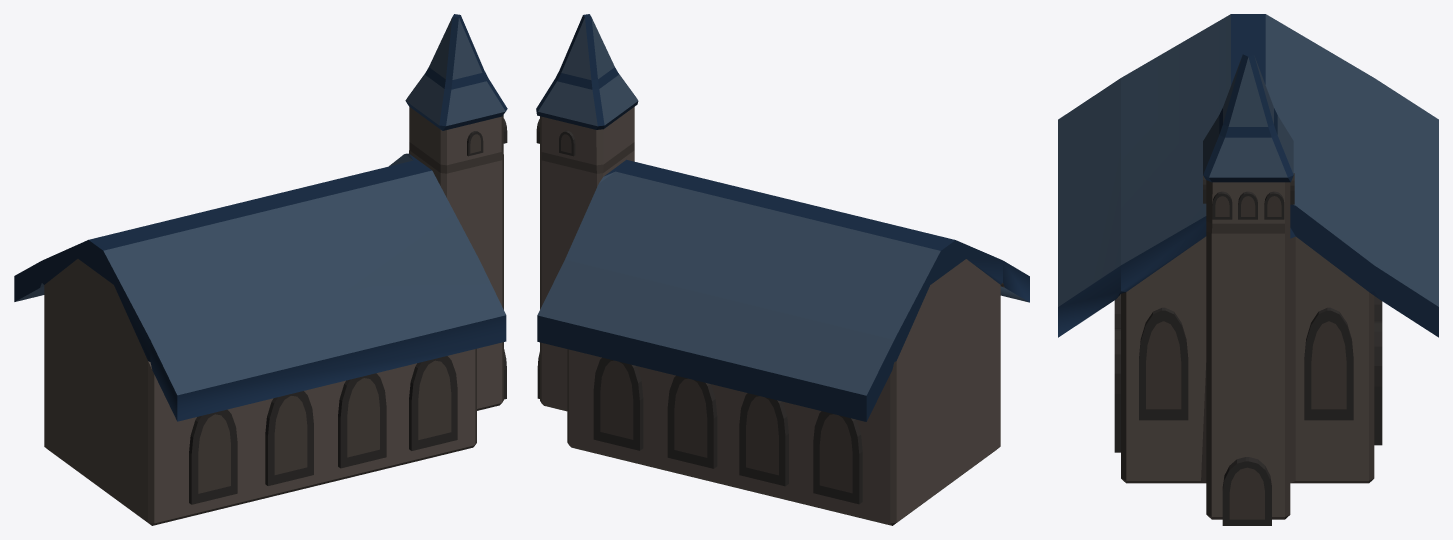
File: CHURCH 1.fbx
3 renders of one model, left to right at view 1: azimuth 30°, elevation 25°; view 2: azimuth 150°, elevation 25°; view 3: azimuth 270°, elevation 25°, orthographic. The views are drawn at different scales.
Visible parts, largest first — view 1: Cube, Cylinder.009, Cylinder.008, Cylinder.011, Cylinder.010; view 2: Cube, Cylinder.004, Cylinder.005, Cylinder.006, Cylinder.007; view 3: Cube, Cylinder.003, Cylinder.001, Cylinder.002, Cylinder.004, Cylinder.008, Cylinder.014, Cylinder.012, Cylinder.013.
Part boxes in pixels (x1,y1,x2,y2): Cube: (14, 14, 507, 525); Cylinder.009: (338, 373, 386, 468); Cylinder.008: (409, 356, 457, 450); Cylinder.011: (189, 409, 237, 504); Cylinder.010: (265, 391, 313, 485); Cube: (536, 14, 1029, 525); Cylinder.004: (593, 357, 643, 450); Cylinder.005: (667, 375, 717, 468); Cylinder.006: (739, 393, 788, 486); Cylinder.007: (813, 411, 862, 504); Cube: (1058, 14, 1438, 519); Cylinder.003: (1304, 307, 1353, 420); Cylinder.001: (1139, 307, 1188, 420); Cylinder.002: (1222, 457, 1271, 525); Cylinder.004: (1374, 320, 1382, 445); Cylinder.008: (1114, 328, 1120, 452); Cylinder.014: (1264, 191, 1284, 219); Cylinder.012: (1212, 191, 1232, 219); Cylinder.013: (1238, 191, 1257, 219).
Size of the model in its own units: 700 by 644 by 494.
